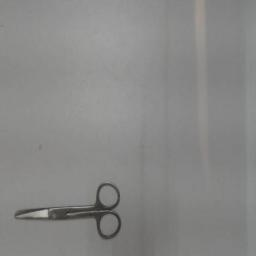Dressing Scissors: (12, 177, 126, 245)
